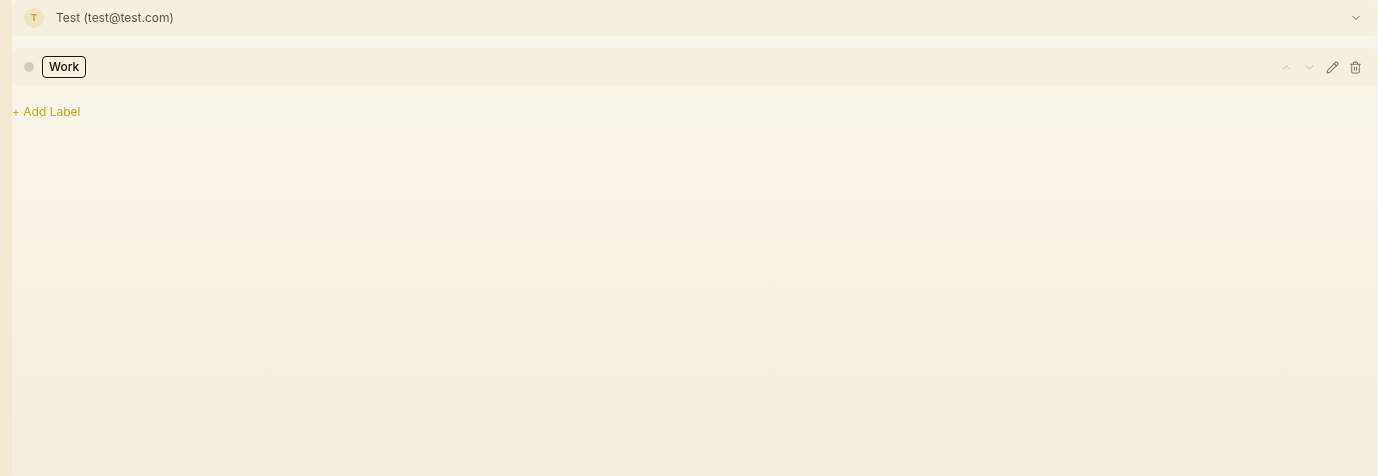
Test case: LabelEditor › shows error on delete failure
Click the button titled "Delete label" at point(1356, 67), box left=1345, top=56, right=1366, bottom=78
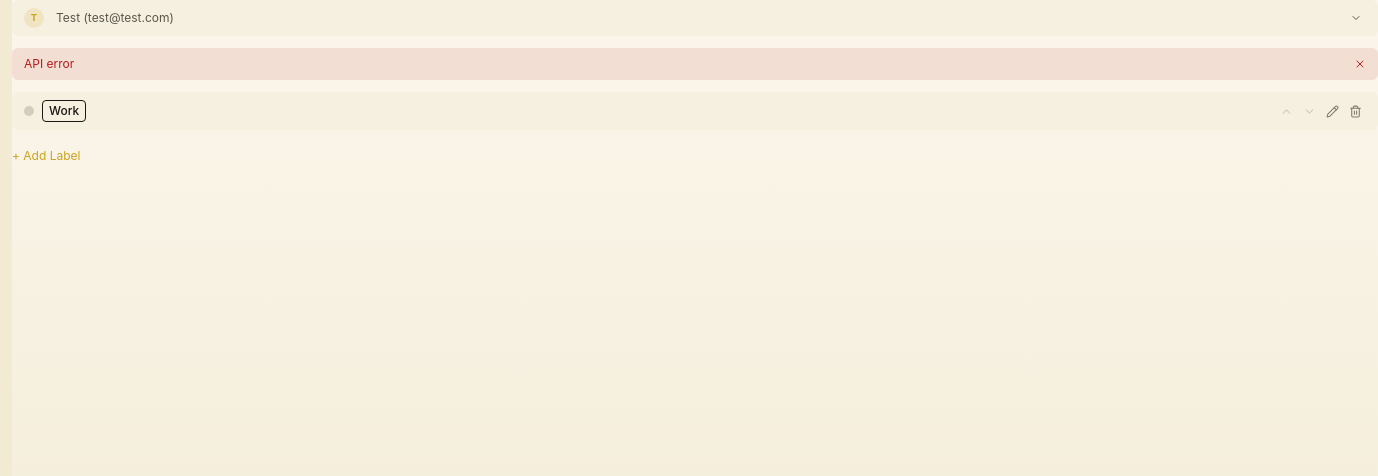
Result: the text "API error" is shown at left=24, top=56, right=74, bottom=71
